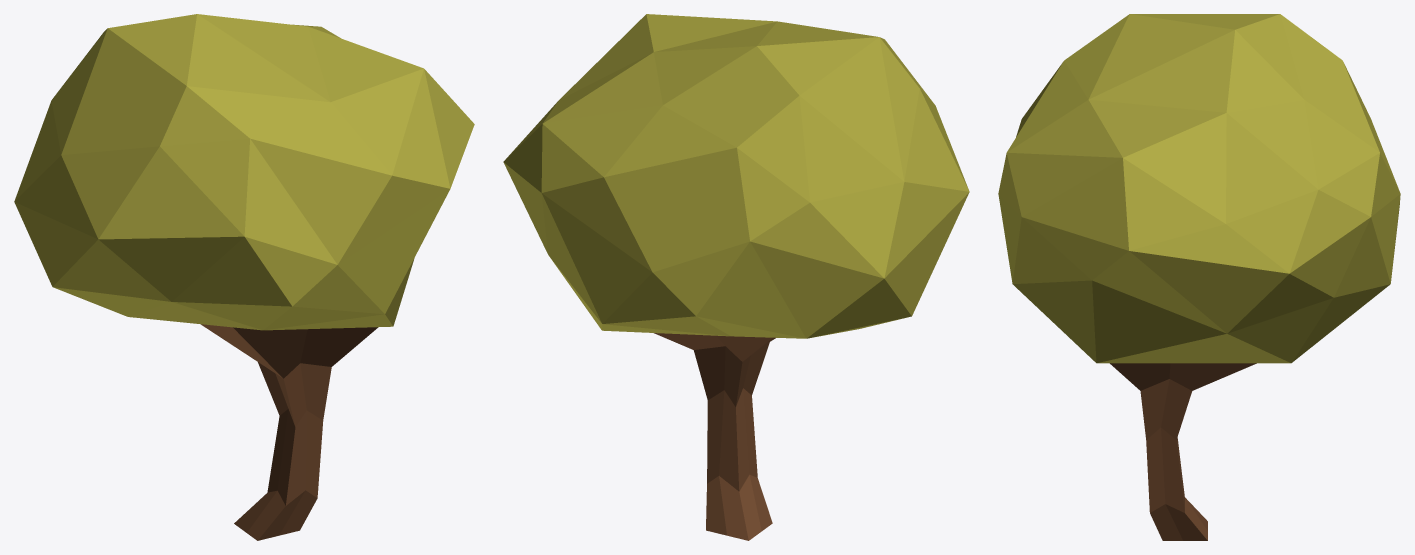
The model's file is Tree_35_Yellow.fbx.
The picture shows the model from 3 angles, left to right: view 1: azimuth 30°, elevation 25°; view 2: azimuth 150°, elevation 25°; view 3: azimuth 270°, elevation 25°; orthographic projection. The views are drawn at different scales.
Visible parts, largest first — view 1: Tree_35_Yellow_Part_1, Tree_35_Yellow_Part_2; view 2: Tree_35_Yellow_Part_1, Tree_35_Yellow_Part_2; view 3: Tree_35_Yellow_Part_1, Tree_35_Yellow_Part_2.
Boxes of the visible parts, left/top/right/bottom form: Tree_35_Yellow_Part_1: left=14, top=14, right=474, bottom=330; Tree_35_Yellow_Part_2: left=201, top=324, right=377, bottom=540; Tree_35_Yellow_Part_1: left=503, top=14, right=969, bottom=338; Tree_35_Yellow_Part_2: left=654, top=333, right=775, bottom=540; Tree_35_Yellow_Part_1: left=998, top=14, right=1400, bottom=363; Tree_35_Yellow_Part_2: left=1110, top=363, right=1256, bottom=540.
Size of the model in its own units: 636 by 815 by 618.
